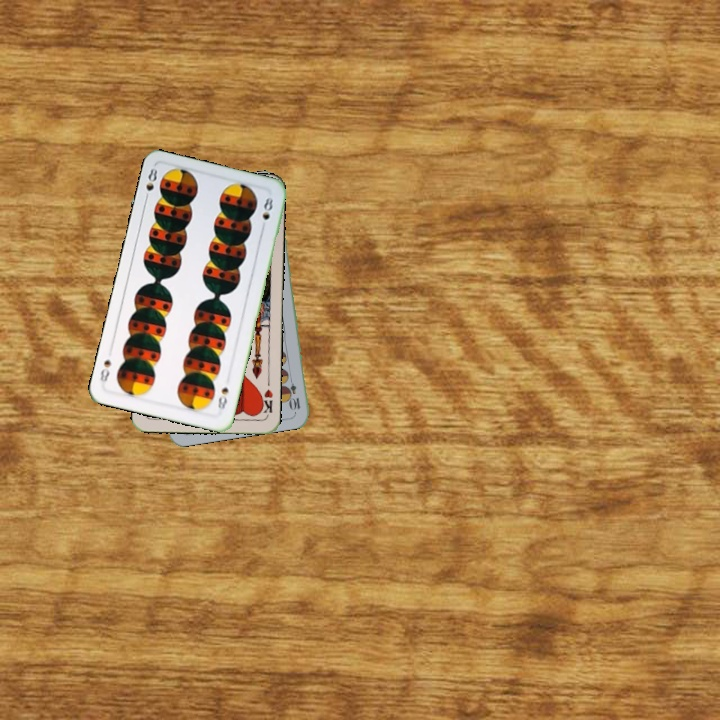E10: (284, 372, 303, 413)
HK: (256, 385, 275, 418)
S8: (141, 164, 160, 204), (213, 383, 231, 412)
